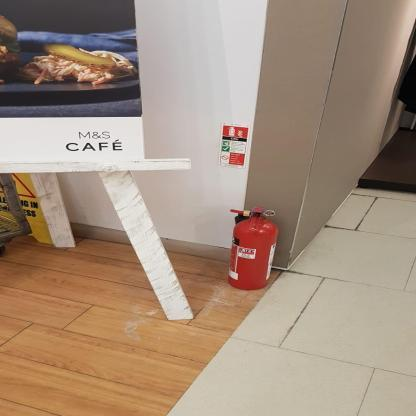Fire Extinguisher: (219, 193, 284, 296)
